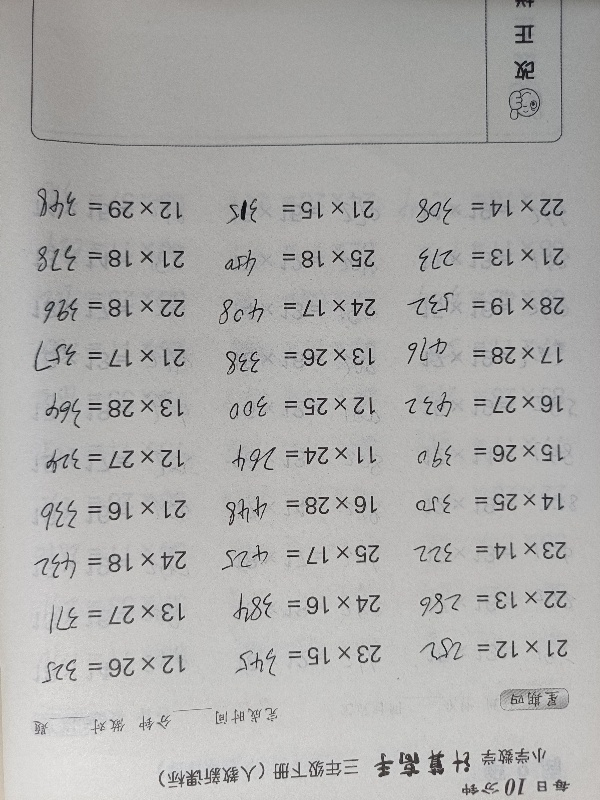equation: (12, 389, 192, 439), (14, 333, 194, 379), (15, 491, 195, 535), (13, 593, 193, 636), (210, 640, 390, 683), (13, 237, 193, 279), (204, 437, 384, 479), (16, 544, 196, 586), (14, 290, 194, 329), (14, 440, 194, 478), (13, 650, 193, 687), (203, 389, 383, 425), (203, 242, 383, 277), (202, 193, 382, 227), (393, 289, 573, 323), (392, 485, 572, 519), (208, 538, 388, 572), (395, 583, 575, 617), (209, 588, 389, 622), (392, 191, 572, 224), (12, 194, 192, 227), (393, 241, 573, 274), (205, 292, 385, 325), (391, 339, 571, 372), (205, 341, 385, 374), (392, 388, 572, 421), (392, 437, 572, 470), (207, 489, 387, 522), (394, 534, 574, 567), (396, 633, 576, 666)
